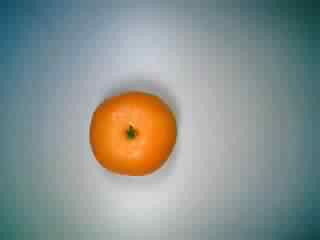orange: (85, 85, 180, 179)
